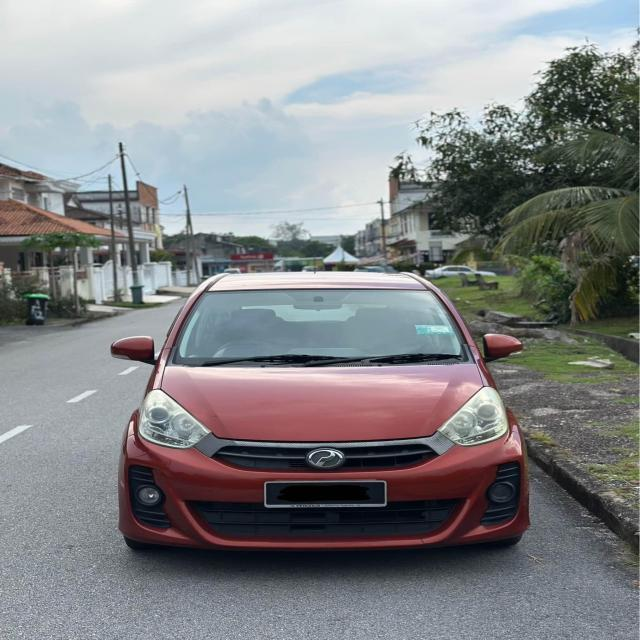PeroduaMyvi: (110, 268, 532, 554)
